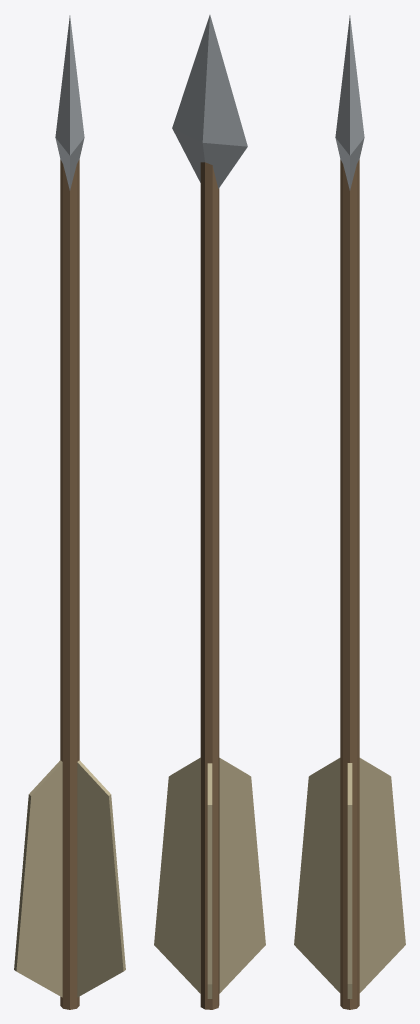
The model's file is authored-arrow.glb.
The picture shows the model from 3 angles, left to right: view 1: azimuth 90°, elevation 25°; view 2: azimuth 150°, elevation 25°; view 3: azimuth 270°, elevation 25°; orthographic projection.
Parts seen in each view (by area): view 1: Arrow nose +Y; view 2: Arrow nose +Y; view 3: Arrow nose +Y.
Part boxes in pixels (<box>): Arrow nose +Y: <box>14,15,125,1009</box>; Arrow nose +Y: <box>154,15,265,1009</box>; Arrow nose +Y: <box>294,15,405,1009</box>.
Bounding box in the file's own units: 0.088 × 0.9 × 0.0921.
